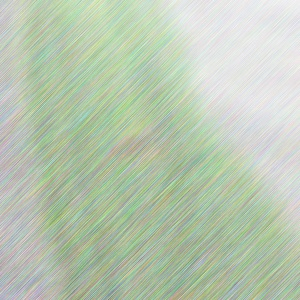Bacterial_Leaf_Blight: (110, 129, 163, 165)
